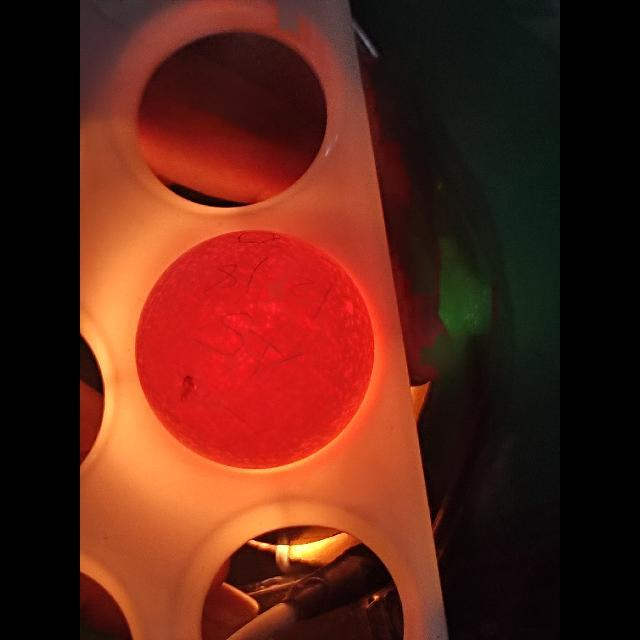Infertile: (137, 227, 377, 468)
